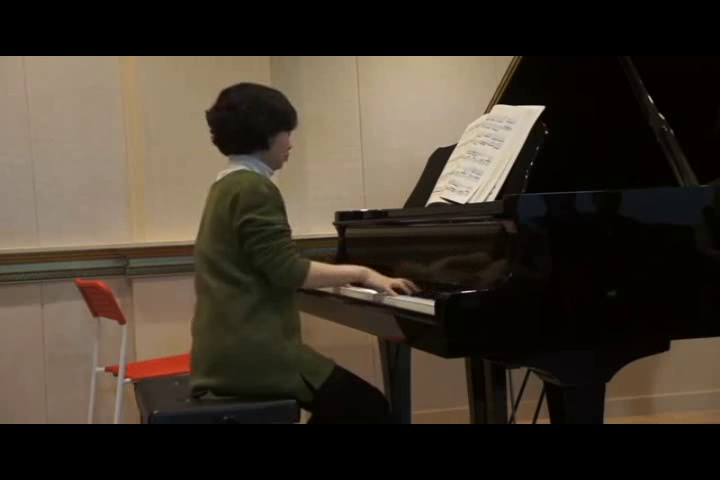keyboard: (272, 261, 447, 327)
